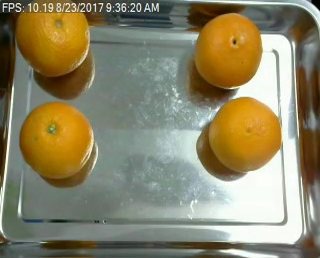Orange: (18, 102, 94, 180), (208, 95, 282, 172), (14, 1, 89, 76), (194, 12, 263, 89)
